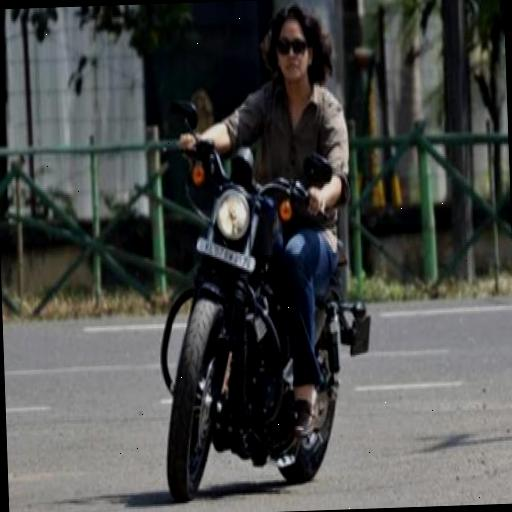no helmet: (151, 0, 362, 505)
